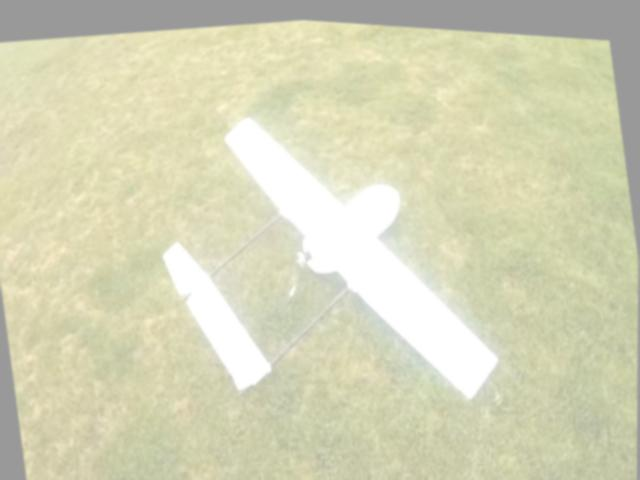uav: (140, 75, 506, 437)
